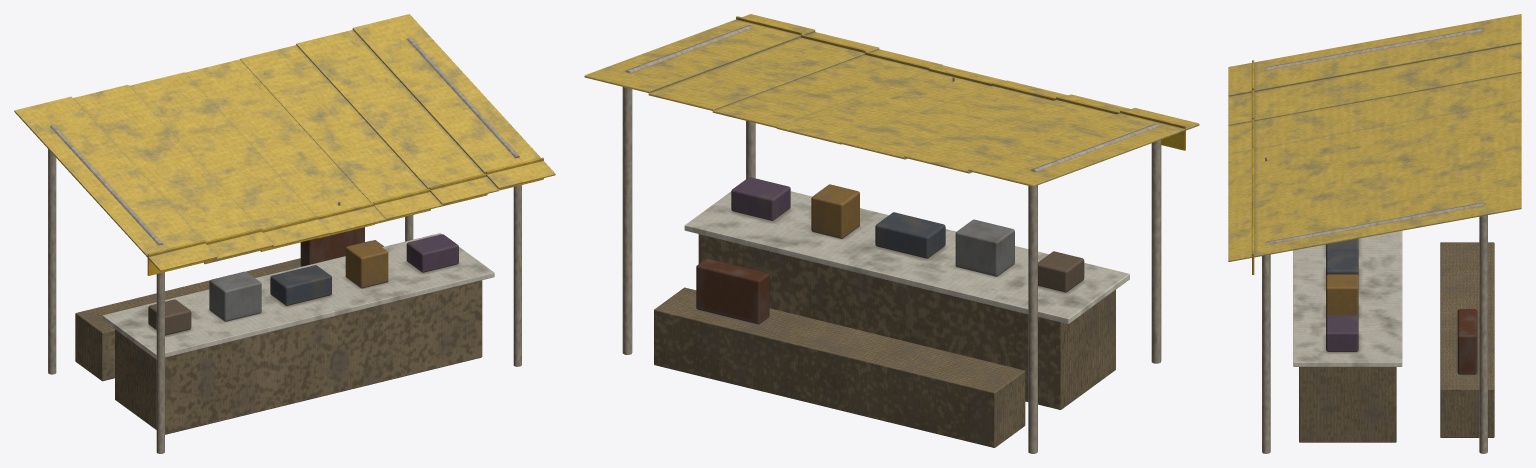
The model's file is bazar_stoisko_3.glb.
3 views of the same model, side by side, from view 1: azimuth 30°, elevation 25°; view 2: azimuth 150°, elevation 25°; view 3: azimuth 270°, elevation 25° (orthographic). The views are drawn at different scales.
Visible parts, largest first — view 1: Stoisko; view 2: Stoisko; view 3: Stoisko.
Part boxes in pixels (bbox=[...]): Stoisko: bbox=[14, 14, 555, 453]; Stoisko: bbox=[584, 14, 1199, 453]; Stoisko: bbox=[1228, 14, 1521, 453].
Bounding box in the file's own units: 4.21 × 2.58 × 2.7.
1 material, 1 textured.
